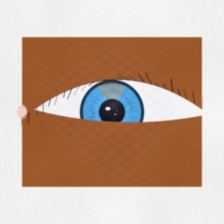pinguecula_lesion: (147, 87, 186, 118)
